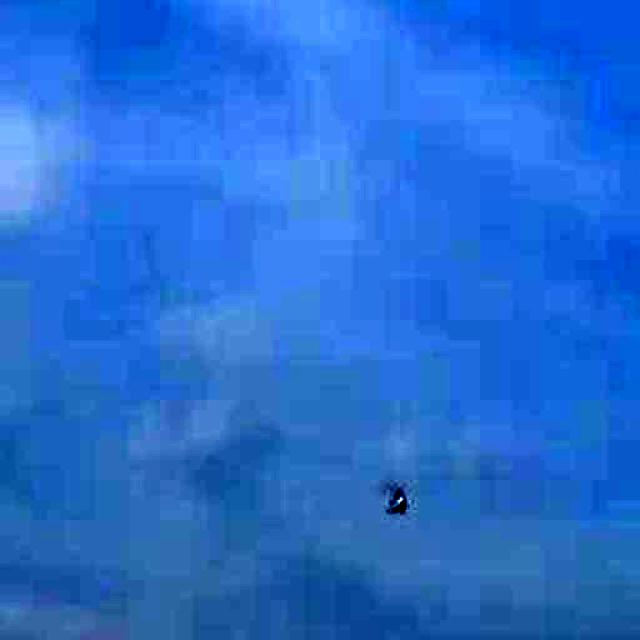drone: (378, 470, 419, 526)
